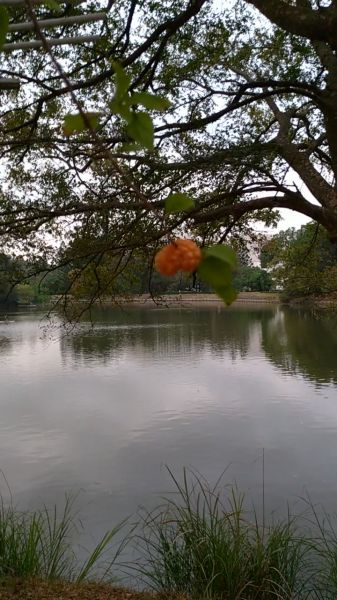eggs: (150, 235, 207, 280)
